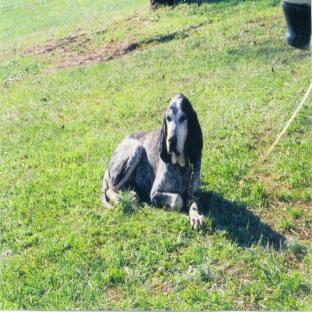Animal: (101, 94, 203, 228)
